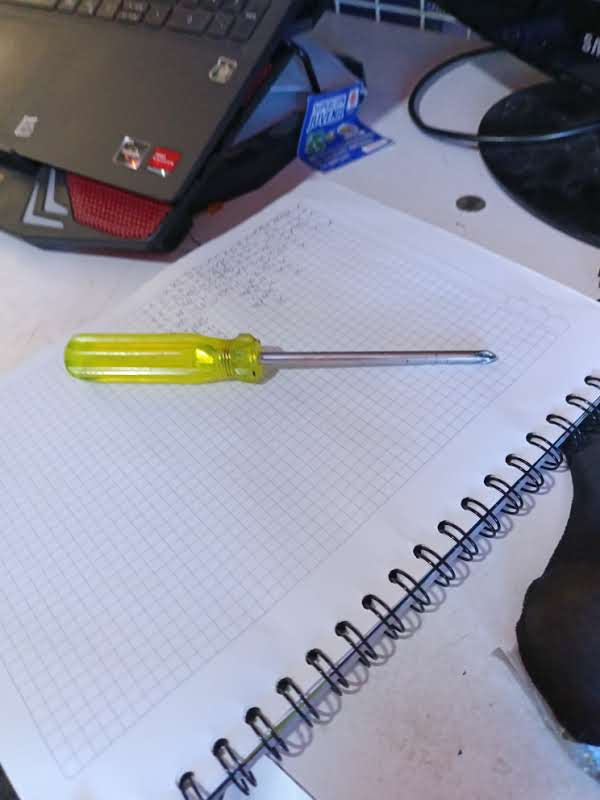Destornillador: (65, 334, 494, 380)
